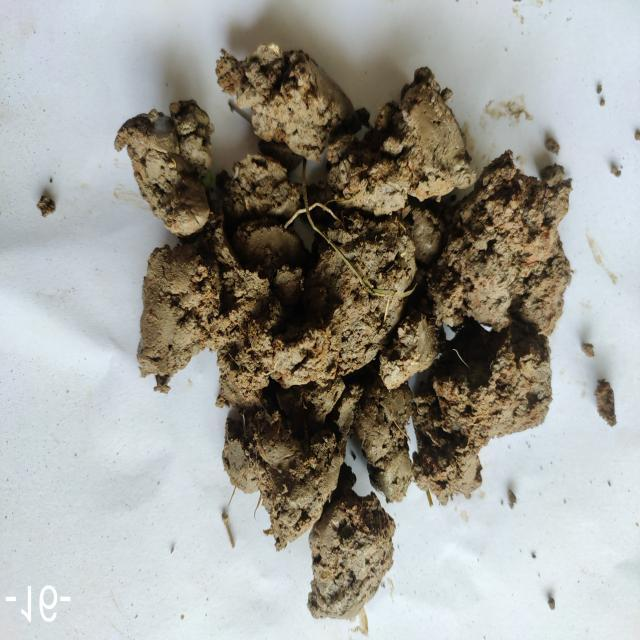soil: (264, 148, 465, 468)
